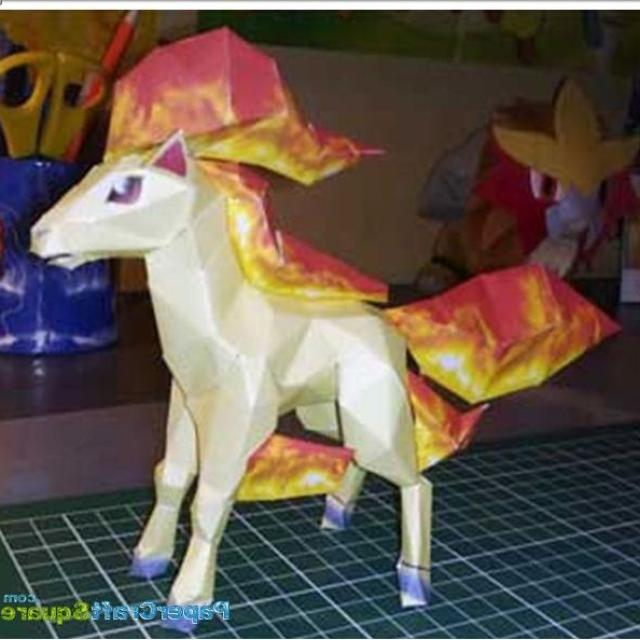Ponyta: (34, 94, 462, 602)
